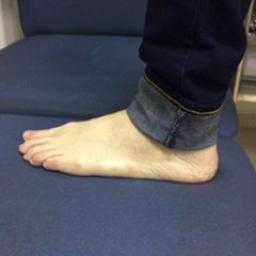Lateral View -Left Foot-: (14, 81, 225, 196)
